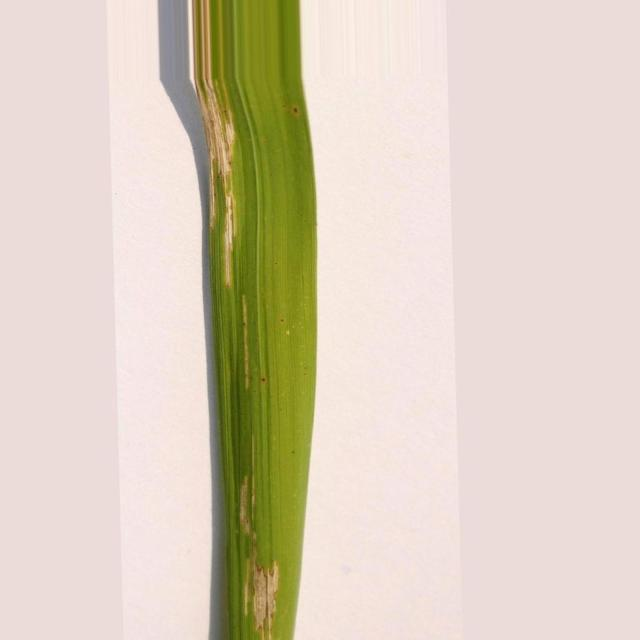Bacterial_Leaf_Blight: (201, 89, 235, 180), (254, 561, 279, 640), (225, 194, 235, 287), (239, 476, 251, 535)
